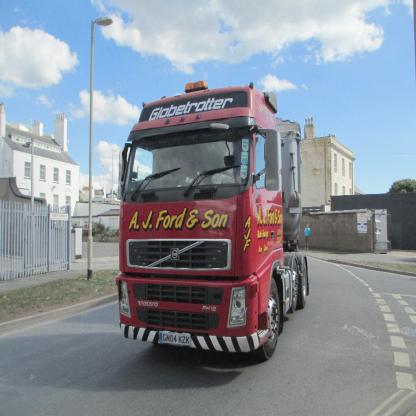Truck: (121, 72, 304, 370)
